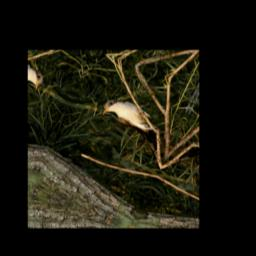Cuckoo: (89, 93, 180, 162)
